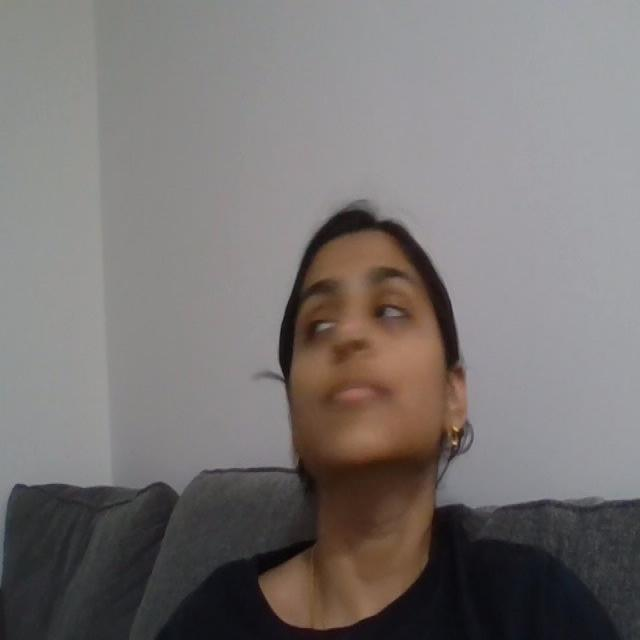No Hat: (250, 133, 476, 267)
